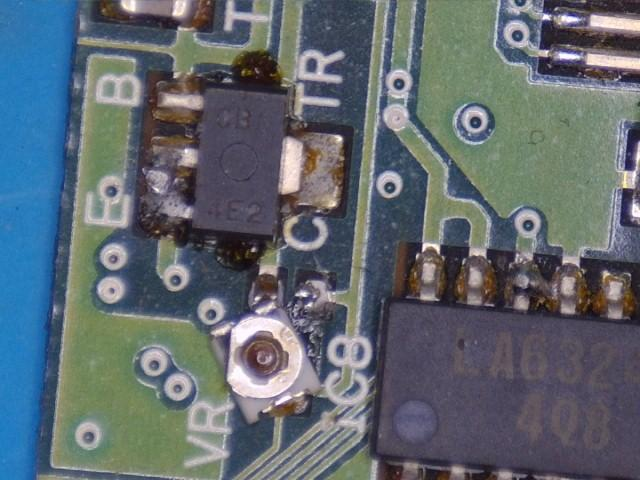Incorrect_installation: (210, 266, 330, 427)
Short_circuit: (140, 138, 201, 236), (506, 255, 591, 316)
